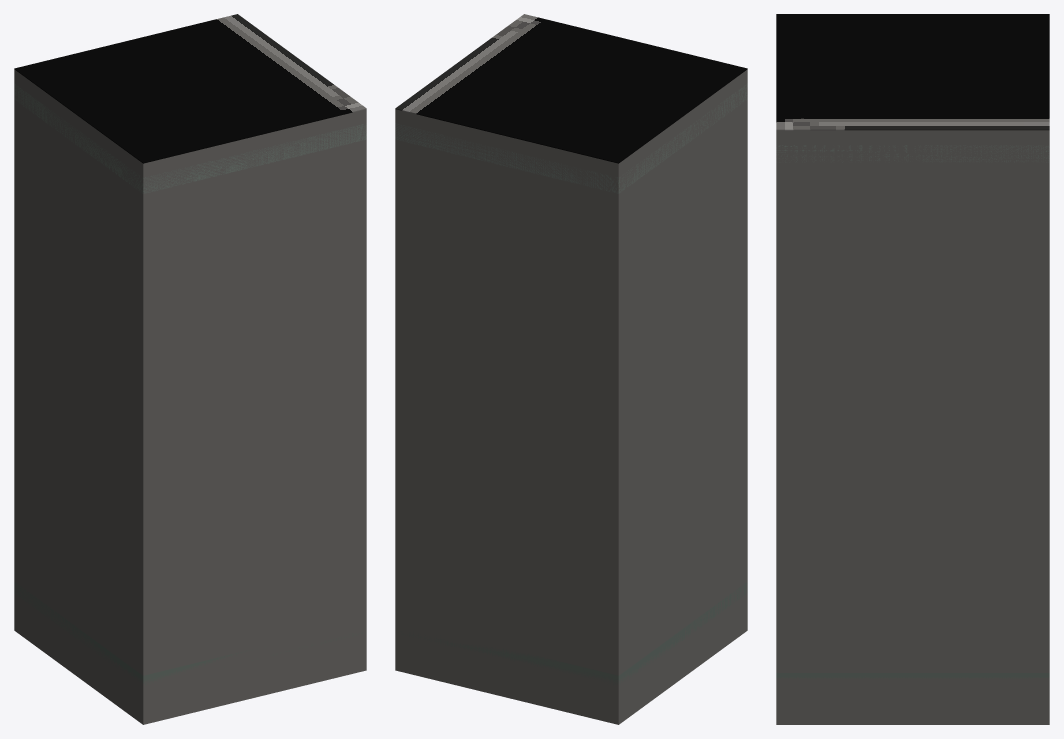
Rendered from CMU3DInteriorVehiclePizzaVanLeft1.glb.
3 renders of one model, left to right at view 1: azimuth 30°, elevation 25°; view 2: azimuth 150°, elevation 25°; view 3: azimuth 270°, elevation 25°, orthographic. The views are drawn at different scales.
Visible parts, largest first — view 1: cabin bulkhead, cabin bulkhead source finish, upper armor trim, lower armor trim; view 2: cabin bulkhead, cabin bulkhead source finish, upper armor trim, lower armor trim; view 3: cabin bulkhead, cabin bulkhead source finish, lower armor trim, upper armor trim.
Part boxes in pixels (box(x1,y1,x2,y2)): cabin bulkhead: box(14, 69, 366, 724); cabin bulkhead source finish: box(14, 14, 366, 163); upper armor trim: box(14, 83, 366, 193); lower armor trim: box(14, 582, 366, 684); cabin bulkhead: box(395, 69, 747, 724); cabin bulkhead source finish: box(395, 14, 747, 163); upper armor trim: box(395, 83, 747, 193); lower armor trim: box(401, 582, 747, 684); cabin bulkhead: box(776, 130, 1049, 724); cabin bulkhead source finish: box(776, 14, 1049, 130); lower armor trim: box(776, 673, 1049, 679); upper armor trim: box(776, 145, 1049, 162).
Size of the model in its own units: 1 by 2.4 by 1.
Materials: 4 (1 with a texture image).
